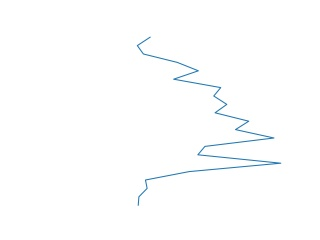floodSwamp: (134, 34, 283, 209)
